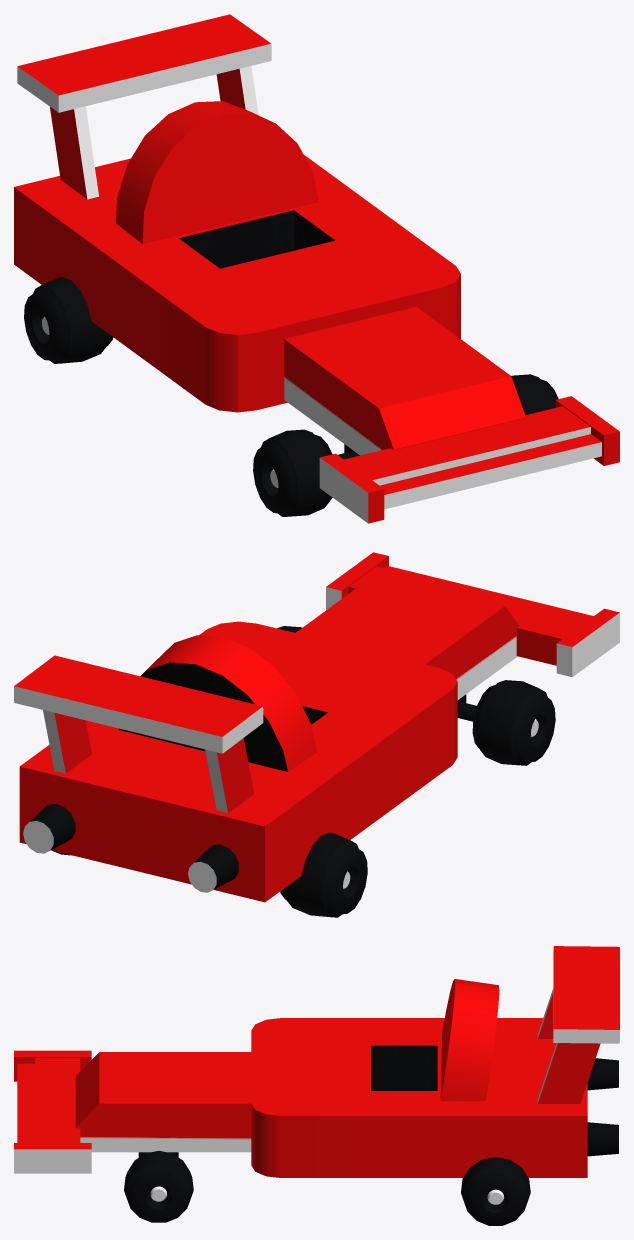
3 views of the same model, one above another, from view 1: azimuth 30°, elevation 25°; view 2: azimuth 150°, elevation 25°; view 3: azimuth 270°, elevation 25° (orthographic). The views are drawn at different scales.
Visible parts, largest first — view 1: pCube32, pasted__polySurface141 pasted__polySurface18 group3, pasted__pasted__polySurface141 pasted__pasted__polySurface18 pas; view 2: pCube32, pasted__polySurface141 pasted__polySurface18 group3, pasted__pasted__polySurface141 pasted__pasted__polySurface18 pas; view 3: pCube32, pasted__polySurface141 pasted__polySurface18 group3, pasted__pasted__polySurface141 pasted__pasted__polySurface18 pas.
Boxes of the visible parts, x1=… form: pCube32: x1=14, y1=14, x2=619, y2=523; pasted__polySurface141 pasted__polySurface18 group3: x1=253, y1=374, x2=558, y2=516; pasted__pasted__polySurface141 pasted__pasted__polySurface18 pas: x1=24, y1=277, x2=113, y2=363; pCube32: x1=14, y1=552, x2=619, y2=902; pasted__polySurface141 pasted__polySurface18 group3: x1=277, y1=626, x2=555, y2=765; pasted__pasted__polySurface141 pasted__pasted__polySurface18 pas: x1=51, y1=832, x2=367, y2=917; pCube32: x1=14, y1=946, x2=619, y2=1177; pasted__polySurface141 pasted__polySurface18 group3: x1=124, y1=1151, x2=193, y2=1222; pasted__pasted__polySurface141 pasted__pasted__polySurface18 pas: x1=461, y1=1157, x2=530, y2=1225.
Size of the model in its own units: 1.45 by 1.04 by 3.05.
Materials: 1 (1 with a texture image).
